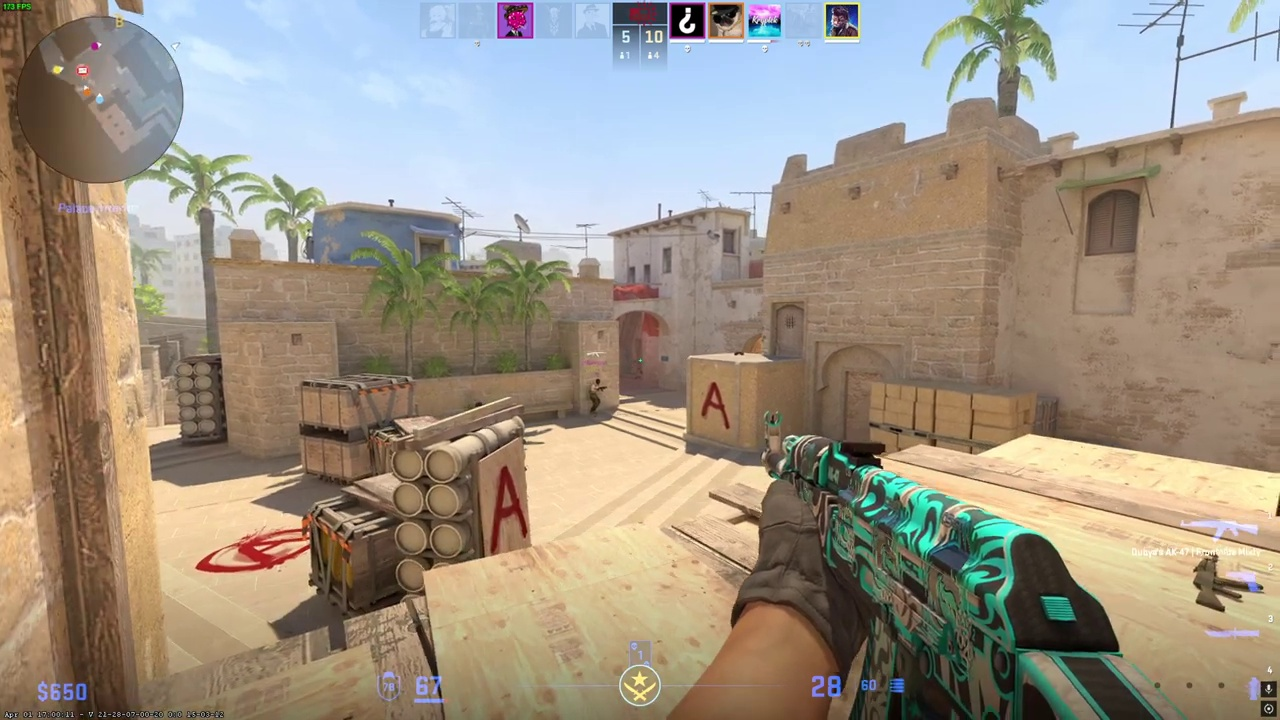Terrorist: (589, 379, 603, 415)
